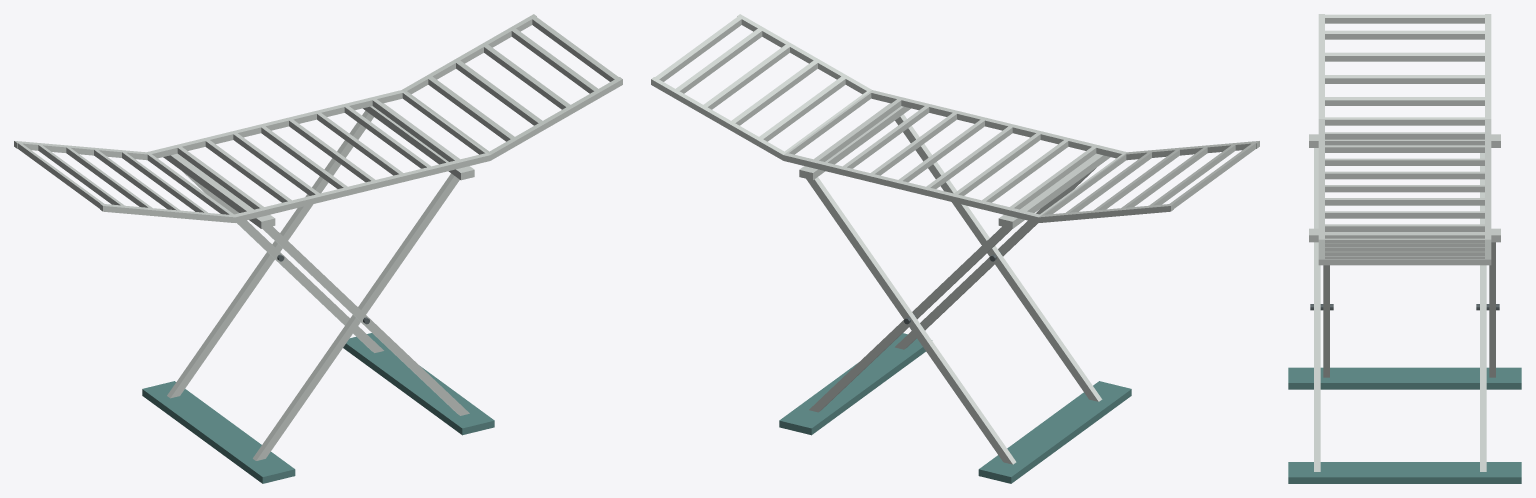
The picture shows the model from 3 angles, left to right: view 1: azimuth 30°, elevation 25°; view 2: azimuth 150°, elevation 25°; view 3: azimuth 270°, elevation 25°; orthographic projection. The views are drawn at different scales.
Parts seen in each view (by area): view 1: FrontContinuousThreeBankProfileRail, LeftWholeGroundSkid, RearContinuousThreeBankProfileRail, FrontCrossLegA, RightWholeGroundSkid, RearCrossLegA, FrontCrossLegB, RearCrossLegB, LeftUpperBearingCrossBrace, RightUpperBearingCrossBrace, FiniteTransverseAiringBar_19, FiniteTransverseAiringBar_16 (+18 smaller); view 2: RearContinuousThreeBankProfileRail, LeftWholeGroundSkid, FrontContinuousThreeBankProfileRail, RearCrossLegA, RightWholeGroundSkid, FrontCrossLegA, RearCrossLegB, FrontCrossLegB, LeftUpperBearingCrossBrace, RightUpperBearingCrossBrace, FiniteTransverseAiringBar_19, FiniteTransverseAiringBar_16 (+18 smaller); view 3: RightWholeGroundSkid, LeftWholeGroundSkid, FrontCrossLegB, FrontContinuousThreeBankProfileRail, RearContinuousThreeBankProfileRail, RearCrossLegB, FiniteTransverseAiringBar_01, FiniteTransverseAiringBar_02, FiniteTransverseAiringBar_03, FiniteTransverseAiringBar_04, FiniteTransverseAiringBar_05, FiniteTransverseAiringBar_06 (+18 smaller).
Part boxes in pixels (<box>): FrontContinuousThreeBankProfileRail: <box>100,77,622,222</box>; LeftWholeGroundSkid: <box>142,381,295,483</box>; RearContinuousThreeBankProfileRail: <box>14,14,536,160</box>; FrontCrossLegA: <box>253,173,459,460</box>; RightWholeGroundSkid: <box>343,333,494,435</box>; RearCrossLegA: <box>167,111,373,398</box>; FrontCrossLegB: <box>262,226,469,415</box>; RearCrossLegB: <box>182,171,383,352</box>; LeftUpperBearingCrossBrace: <box>163,153,275,228</box>; RightUpperBearingCrossBrace: <box>363,103,474,180</box>; FiniteTransverseAiringBar_19: <box>511,28,597,93</box>; FiniteTransverseAiringBar_16: <box>428,76,514,141</box>; RearContinuousThreeBankProfileRail: <box>651,77,1173,222</box>; LeftWholeGroundSkid: <box>978,381,1131,483</box>; FrontContinuousThreeBankProfileRail: <box>737,14,1259,160</box>; RearCrossLegA: <box>806,177,1016,464</box>; RightWholeGroundSkid: <box>779,333,932,435</box>; FrontCrossLegA: <box>895,114,1102,401</box>; RearCrossLegB: <box>809,226,1011,412</box>; FrontCrossLegB: <box>895,168,1095,349</box>; LeftUpperBearingCrossBrace: <box>998,153,1110,228</box>; RightUpperBearingCrossBrace: <box>799,103,910,180</box>; FiniteTransverseAiringBar_19: <box>676,28,762,93</box>; FiniteTransverseAiringBar_16: <box>759,76,845,141</box>; RightWholeGroundSkid: <box>1288,462,1521,483</box>; LeftWholeGroundSkid: <box>1288,367,1521,389</box>; FrontCrossLegB: <box>1314,148,1320,471</box>; FrontContinuousThreeBankProfileRail: <box>1318,14,1324,265</box>; RearContinuousThreeBankProfileRail: <box>1485,14,1491,265</box>; RearCrossLegB: <box>1480,153,1486,471</box>; FiniteTransverseAiringBar_01: <box>1325,14,1484,23</box>; FiniteTransverseAiringBar_02: <box>1325,30,1484,39</box>; FiniteTransverseAiringBar_03: <box>1325,52,1484,61</box>; FiniteTransverseAiringBar_04: <box>1325,75,1484,83</box>; FiniteTransverseAiringBar_05: <box>1325,97,1484,105</box>; FiniteTransverseAiringBar_06: <box>1325,117,1484,125</box>.
Size of the model in its own units: 2.24 by 1.24 by 0.9.
